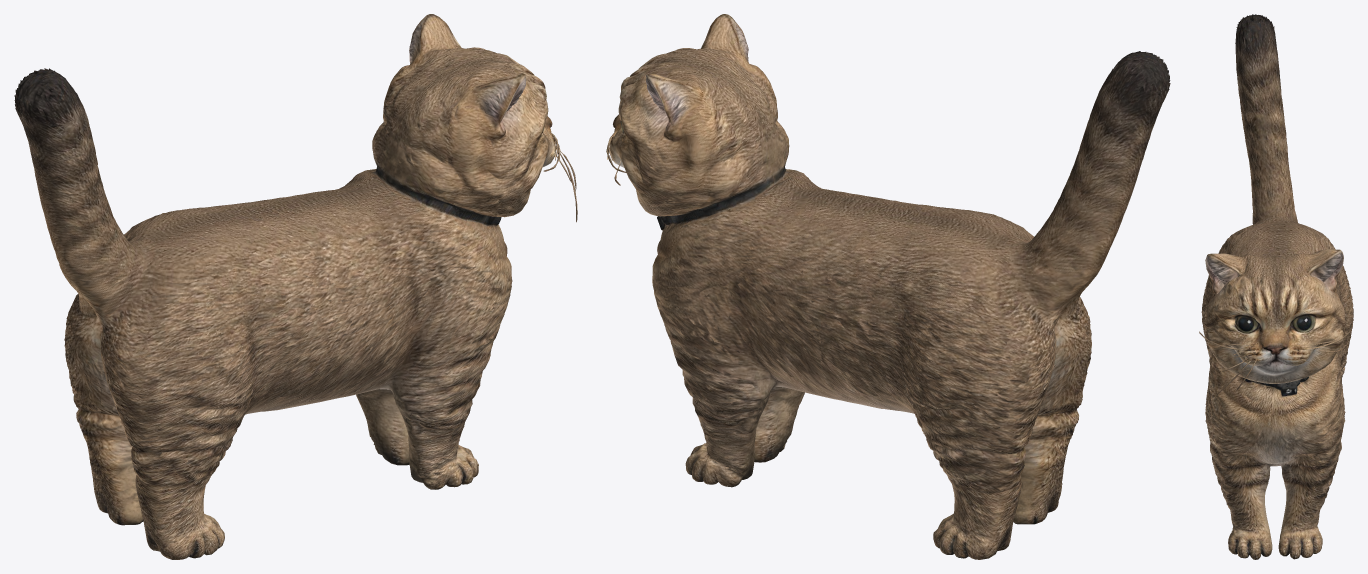
The model's file is MINIRACAT.glb.
3 renders of one model, left to right at view 1: azimuth 30°, elevation 25°; view 2: azimuth 150°, elevation 25°; view 3: azimuth 270°, elevation 25°, orthographic. The views are drawn at different scales.
Parts seen in each view (by area): view 1: tripo_node_582fd924-ae98-4b0d-a6a9-6ae34c00bcf8; view 2: tripo_node_582fd924-ae98-4b0d-a6a9-6ae34c00bcf8; view 3: tripo_node_582fd924-ae98-4b0d-a6a9-6ae34c00bcf8.
Part boxes in pixels (x1,y1,x2,y2): tripo_node_582fd924-ae98-4b0d-a6a9-6ae34c00bcf8: (14, 14, 577, 559); tripo_node_582fd924-ae98-4b0d-a6a9-6ae34c00bcf8: (606, 14, 1170, 559); tripo_node_582fd924-ae98-4b0d-a6a9-6ae34c00bcf8: (1199, 14, 1353, 559).
Bounding box in the file's own units: 1.14 × 0.9999 × 0.3632.
Materials: 1 (1 with a texture image).
